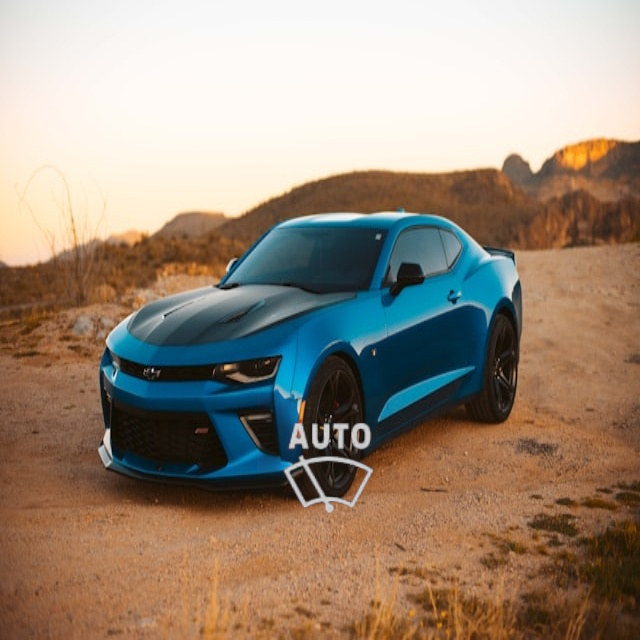symbol: (427, 18, 580, 171), (257, 397, 402, 542)
